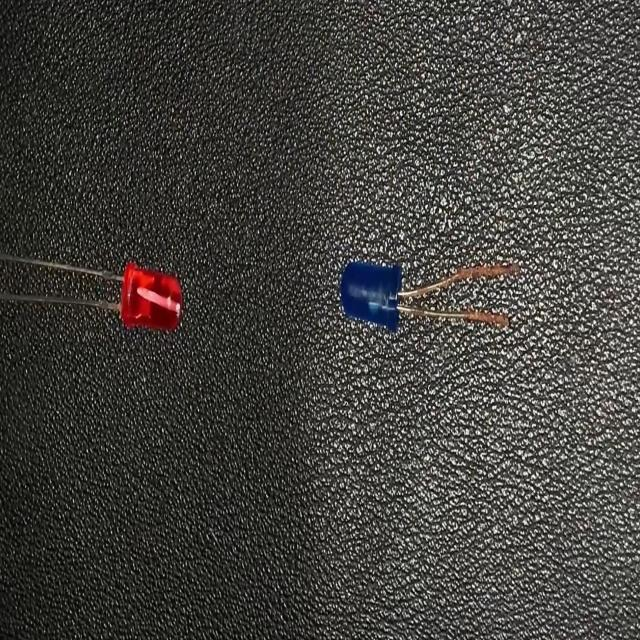LED: (0, 246, 185, 338), (338, 255, 521, 333)
rust: (456, 261, 516, 282), (463, 307, 510, 329)
